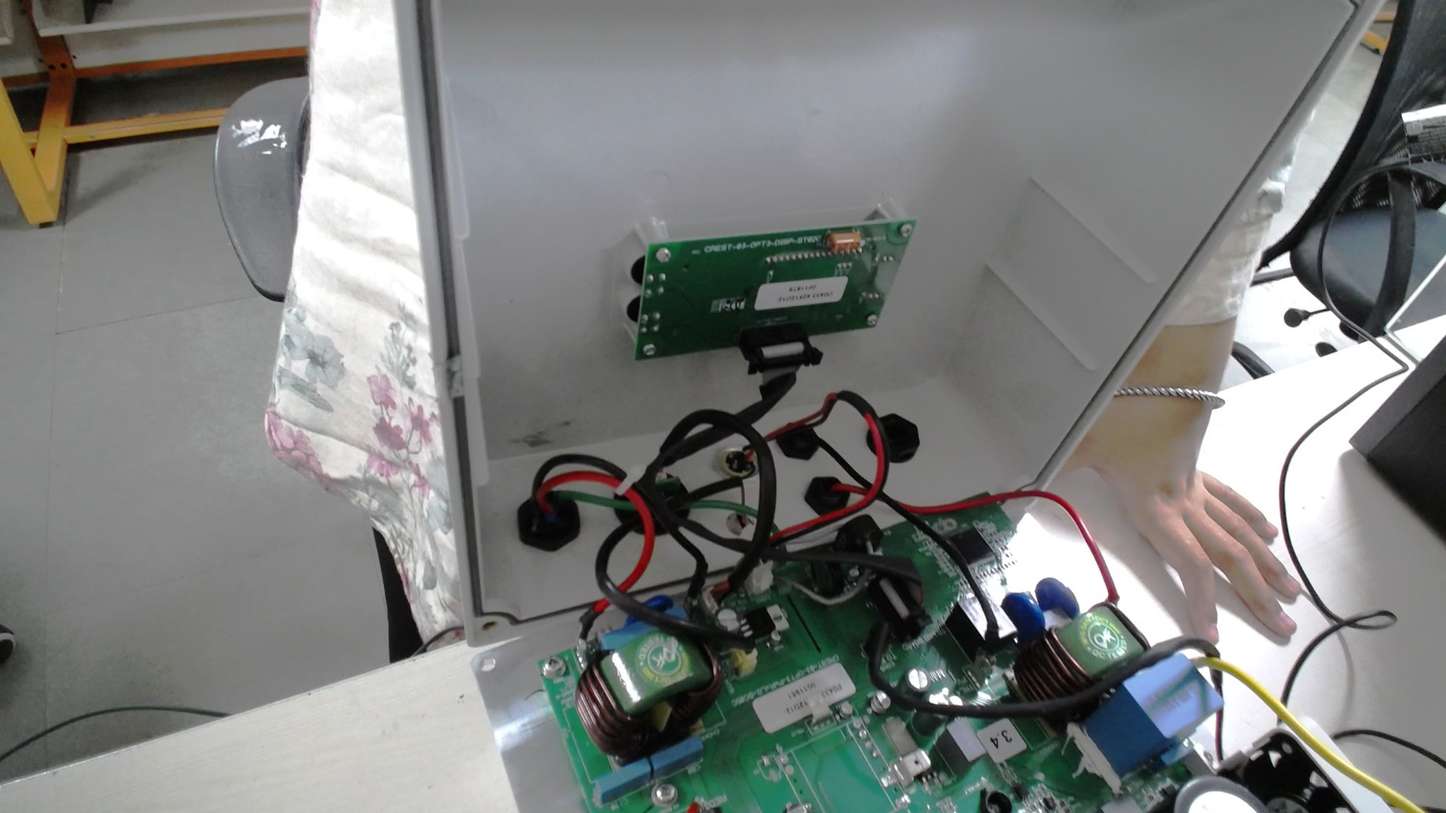wire_red: (502, 452, 589, 565)
